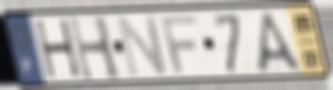7: (213, 12, 243, 75)
A: (256, 9, 306, 75)
F: (159, 14, 198, 76)
H: (66, 14, 124, 84), (32, 17, 84, 81)
N: (115, 13, 170, 80)
